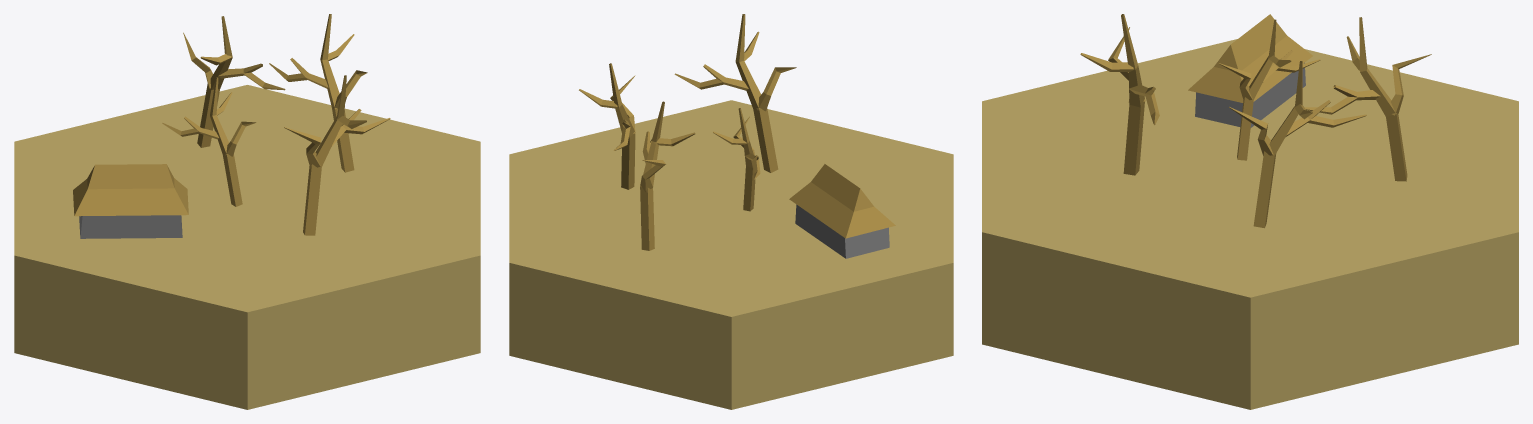
The model's file is Casas_Desertico_1.fbx.
3 renders of one model, left to right at view 1: azimuth 30°, elevation 25°; view 2: azimuth 150°, elevation 25°; view 3: azimuth 270°, elevation 25°, orthographic. The views are drawn at different scales.
Parts seen in each view (by area): view 1: Casas_Desertico_1; view 2: Casas_Desertico_1; view 3: Casas_Desertico_1.
Boxes of the visible parts, left/top/right/bottom form: Casas_Desertico_1: left=14, top=14, right=480, bottom=409; Casas_Desertico_1: left=509, top=14, right=953, bottom=409; Casas_Desertico_1: left=982, top=14, right=1518, bottom=409.
Bounding box in the file's own units: 200 × 103 × 173.
